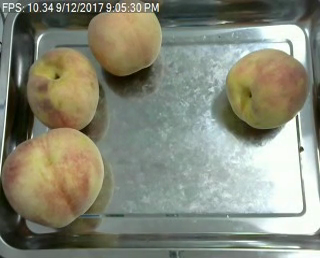Peach: (0, 126, 105, 229), (225, 46, 308, 129), (26, 47, 101, 130), (89, 0, 161, 75)
